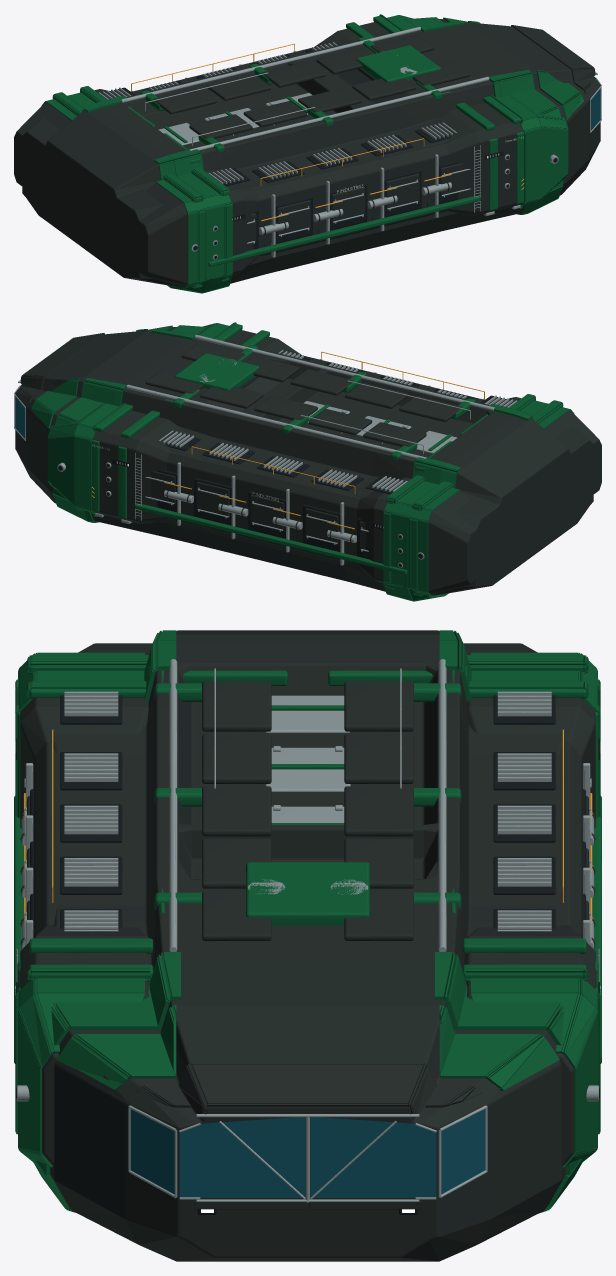
File: pioneer-study.glb
3 views of the same model, one above another, from view 1: azimuth 30°, elevation 25°; view 2: azimuth 150°, elevation 25°; view 3: azimuth 270°, elevation 25° (orthographic). The views are drawn at different scales.
Visible parts, largest first — view 1: Graphite ceramic armor, Emerald structural frames, Titanium machinery, Recessed carbon, Safety amber; view 2: Graphite ceramic armor, Emerald structural frames, Titanium machinery, Recessed carbon, Safety amber; view 3: Graphite ceramic armor, Emerald structural frames, Titanium machinery, Navigation glass, Recessed carbon, Safety amber.
Part boxes in pixels (box(x1,y1,x2,y2)): Graphite ceramic armor: box(14, 19, 600, 287); Emerald structural frames: box(41, 14, 583, 293); Titanium machinery: box(98, 26, 601, 278); Recessed carbon: box(101, 45, 557, 259); Safety amber: box(131, 43, 524, 221); Graphite ceramic armor: box(15, 327, 601, 595); Emerald structural frames: box(31, 322, 574, 601); Titanium machinery: box(14, 334, 517, 586); Recessed carbon: box(58, 353, 514, 567); Safety amber: box(91, 351, 484, 529); Graphite ceramic armor: box(20, 630, 595, 1261); Emerald structural frames: box(14, 630, 601, 1213); Titanium machinery: box(15, 659, 600, 1202); Navigation glass: box(130, 1109, 485, 1197); Recessed carbon: box(16, 695, 599, 1214); Safety amber: box(23, 729, 592, 924).
Size of the model in its own units: 72 by 18 by 38.
